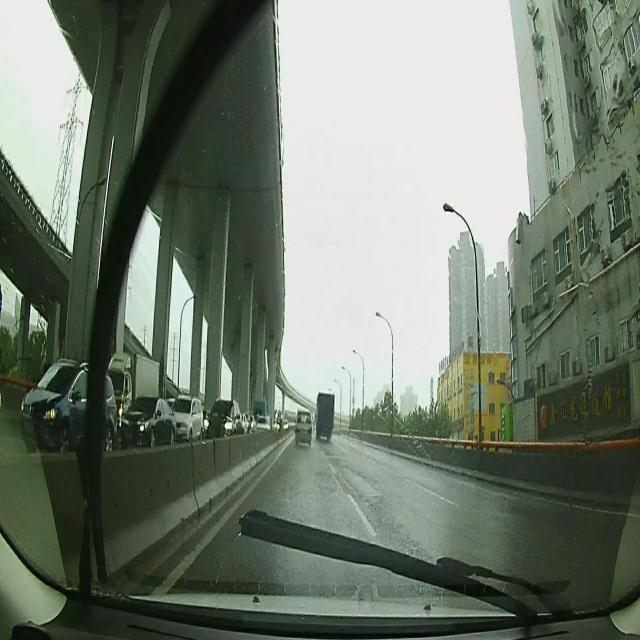car: (314, 390, 336, 440)
